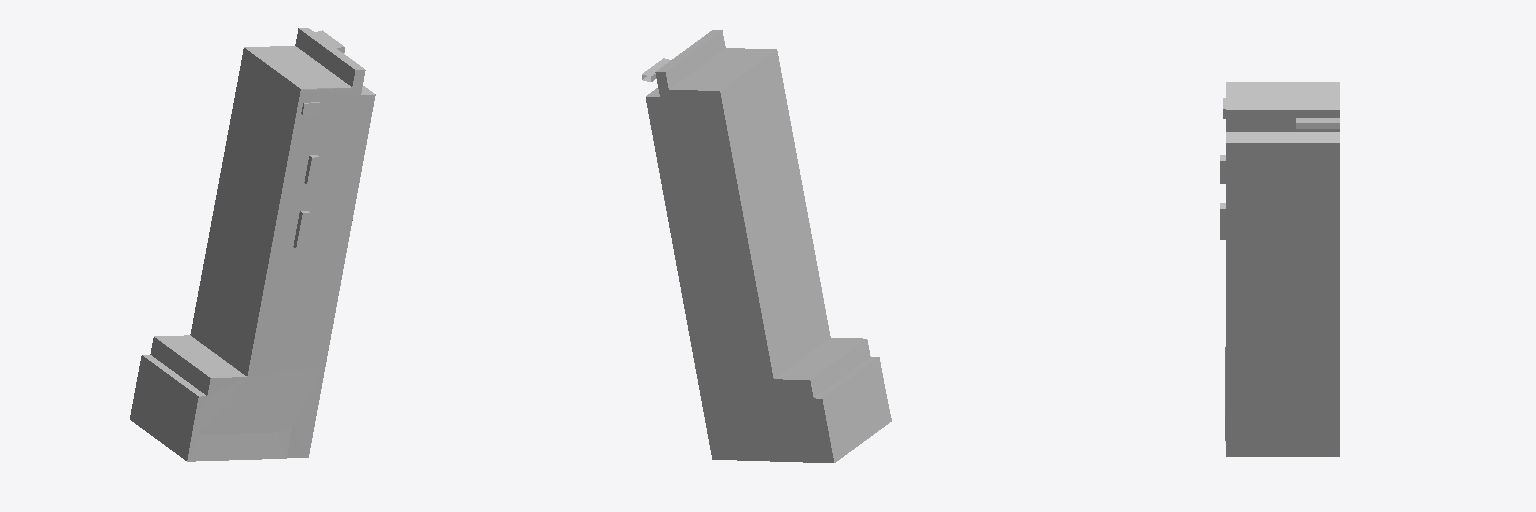
Rendered from talo_Build0000047.obj.
3 renders of one model, left to right at view 1: azimuth 30°, elevation 25°; view 2: azimuth 150°, elevation 25°; view 3: azimuth 270°, elevation 25°, orthographic.
Bounding box in the file's own units: 58.47 × 109 × 31.48.